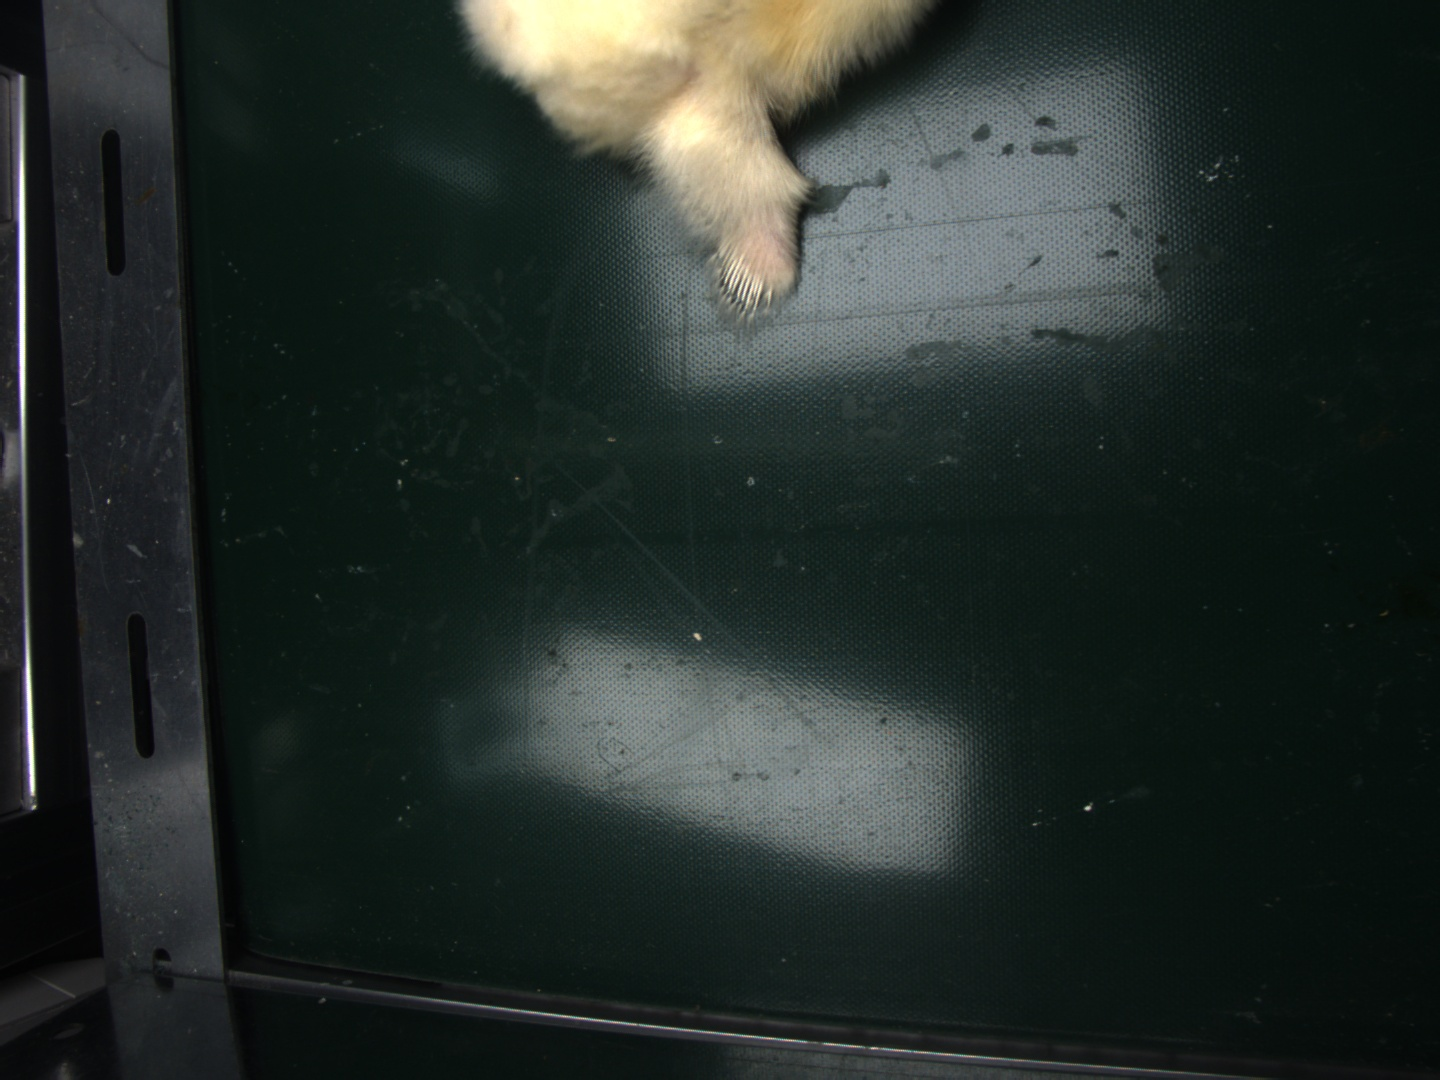male: (709, 233, 774, 319)
